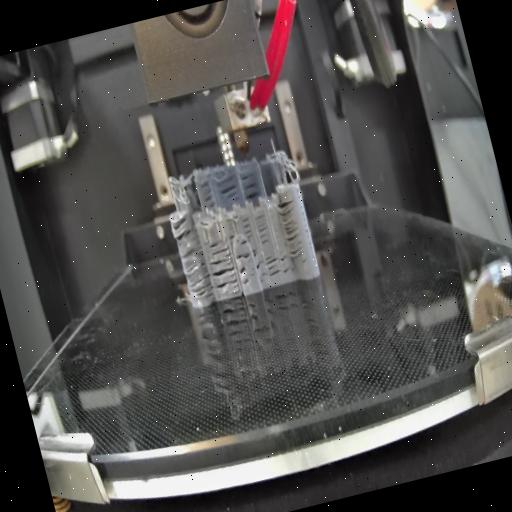cracks: (276, 196, 308, 260), (178, 246, 214, 298), (210, 256, 243, 300), (170, 212, 198, 244), (264, 250, 292, 278), (238, 168, 262, 200), (217, 173, 241, 203), (251, 246, 268, 288), (254, 213, 273, 247), (200, 182, 218, 209), (208, 236, 230, 256), (225, 214, 236, 238), (238, 266, 251, 286), (242, 216, 254, 236), (234, 249, 252, 262), (236, 236, 248, 248)
